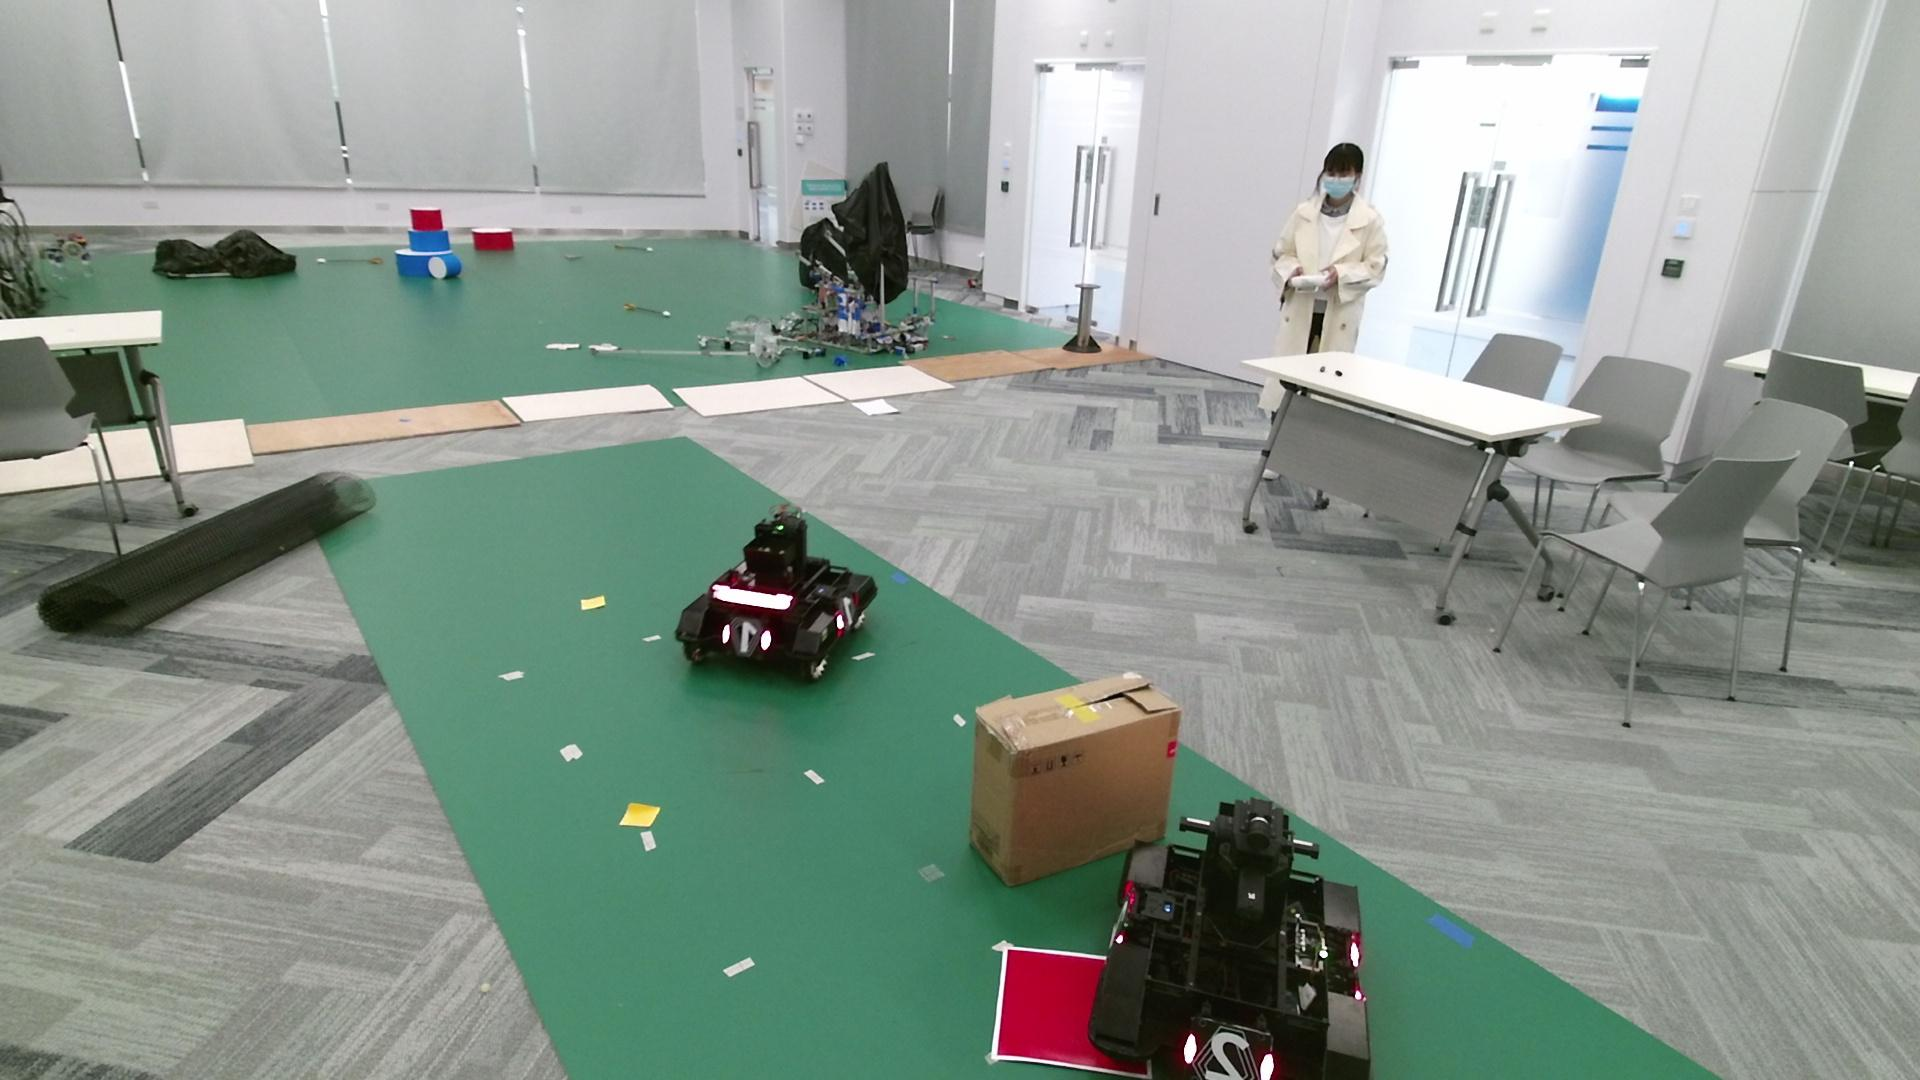robot: (1087, 795, 1373, 1080), (674, 510, 878, 682)
